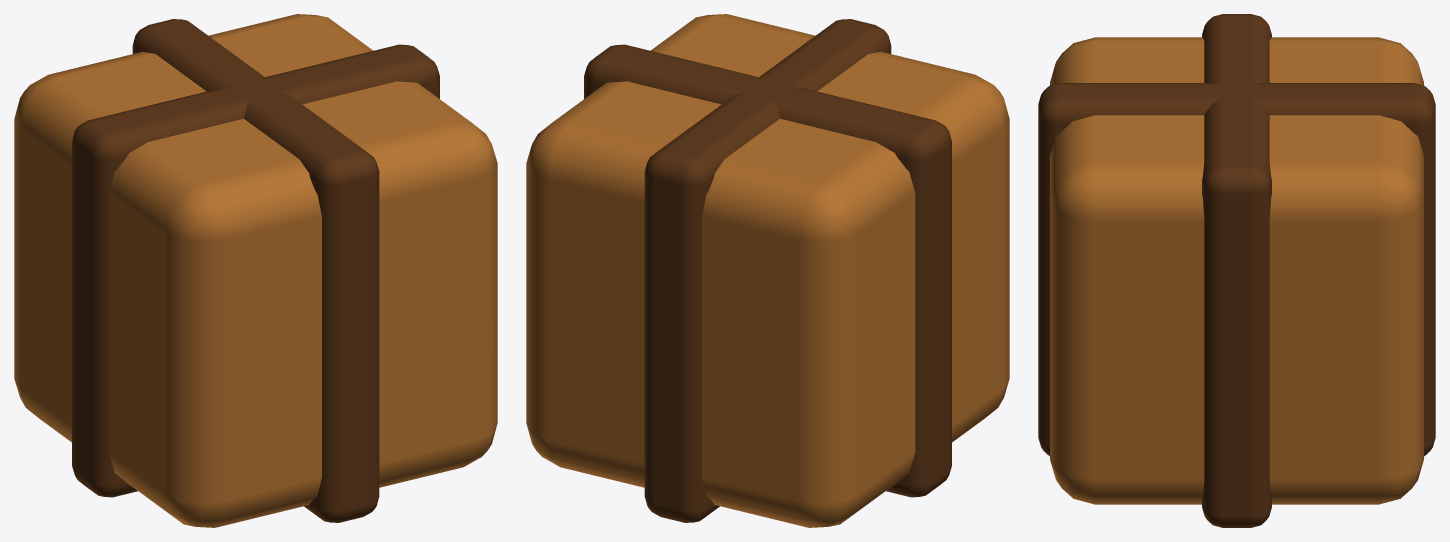
Rendered from crate.glb.
3 views of the same model, side by side, from view 1: azimuth 30°, elevation 25°; view 2: azimuth 150°, elevation 25°; view 3: azimuth 270°, elevation 25° (orthographic).
Parts seen in each view (by area): view 1: Crate; view 2: Crate; view 3: Crate.
Part boxes in pixels (box(x1,y1,x2,y2)): Crate: box(14, 14, 497, 527); Crate: box(526, 14, 1009, 527); Crate: box(1038, 14, 1435, 527).
Bounding box in the file's own units: 0.68 × 0.68 × 0.68.
